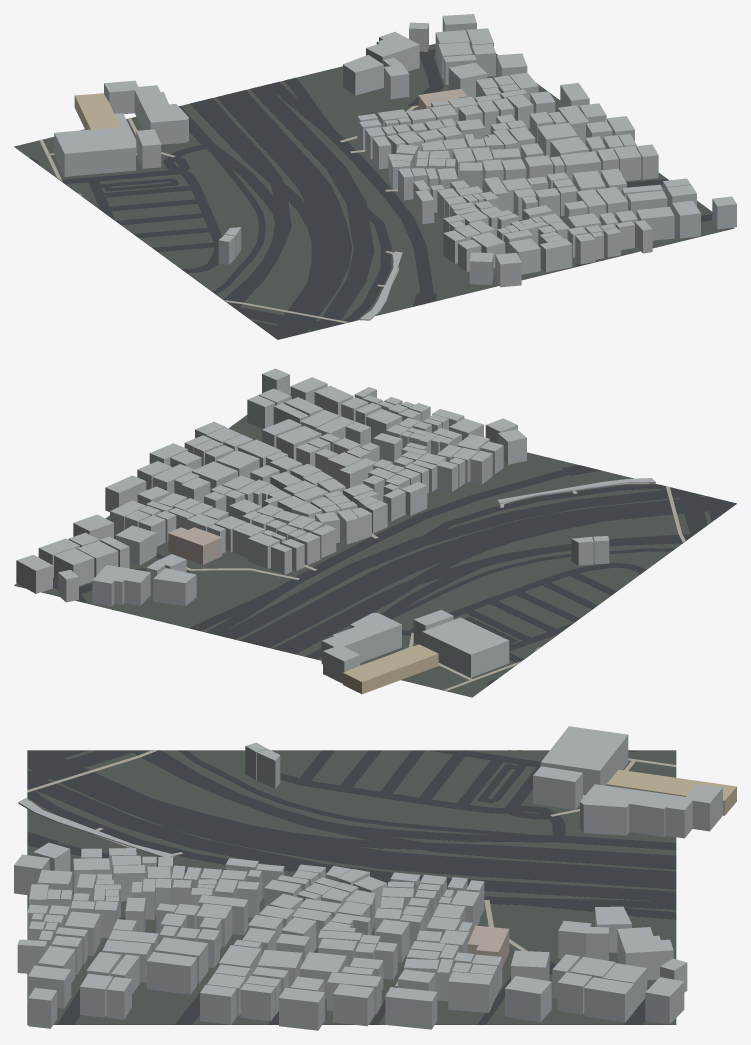
File: tile_007_005.glb
3 views of the same model, one above another, from view 1: azimuth 30°, elevation 25°; view 2: azimuth 150°, elevation 25°; view 3: azimuth 270°, elevation 25° (orthographic). The views are drawn at different scales.
Parts seen in each view (by area): view 1: tile_007_005_buildings_neutral, tile_007_005_roads, tile_007_005_ground, tile_007_005_buildings_retail, tile_007_005_paths, tile_007_005_buildings_residential; view 2: tile_007_005_buildings_neutral, tile_007_005_ground, tile_007_005_roads, tile_007_005_buildings_retail, tile_007_005_buildings_residential, tile_007_005_paths; view 3: tile_007_005_buildings_neutral, tile_007_005_roads, tile_007_005_ground, tile_007_005_buildings_retail, tile_007_005_buildings_residential, tile_007_005_paths.
Boxes of the visible parts, x1,y1,x2,y2 form: tile_007_005_buildings_neutral: (54, 14, 736, 320); tile_007_005_roads: (29, 49, 712, 339); tile_007_005_ground: (14, 43, 734, 339); tile_007_005_buildings_retail: (74, 93, 119, 129); tile_007_005_paths: (39, 105, 487, 322); tile_007_005_buildings_residential: (418, 88, 467, 109); tile_007_005_buildings_neutral: (16, 368, 655, 683); tile_007_005_ground: (14, 415, 735, 697); tile_007_005_roads: (53, 465, 736, 685); tile_007_005_buildings_retail: (343, 644, 438, 694); tile_007_005_buildings_residential: (168, 527, 221, 564); tile_007_005_paths: (186, 482, 685, 690); tile_007_005_buildings_neutral: (14, 726, 722, 1030); tile_007_005_roads: (27, 750, 676, 1024); tile_007_005_ground: (27, 750, 676, 1024); tile_007_005_buildings_retail: (606, 769, 736, 815); tile_007_005_buildings_residential: (467, 925, 509, 967); tile_007_005_paths: (27, 750, 676, 986).
Size of the model in its own units: 256 by 12.16 by 278.
